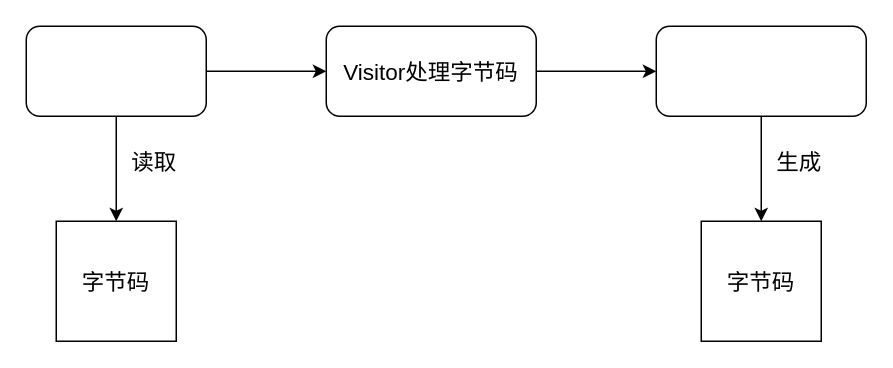
Some shapes in this 893 by 368 pixel diagram are drawn without their labels. The centre of each missing label's shape, as x and y in pixels:
"ClassReader" goes at point 115,70.
"ClassWriter" goes at point 760,70.
